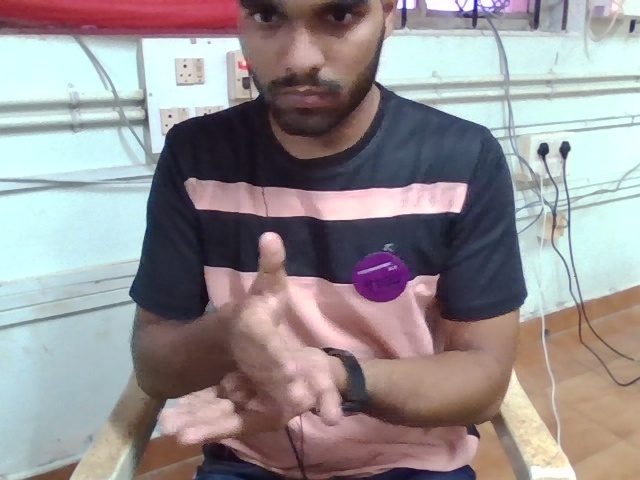stop: (146, 223, 368, 450)
